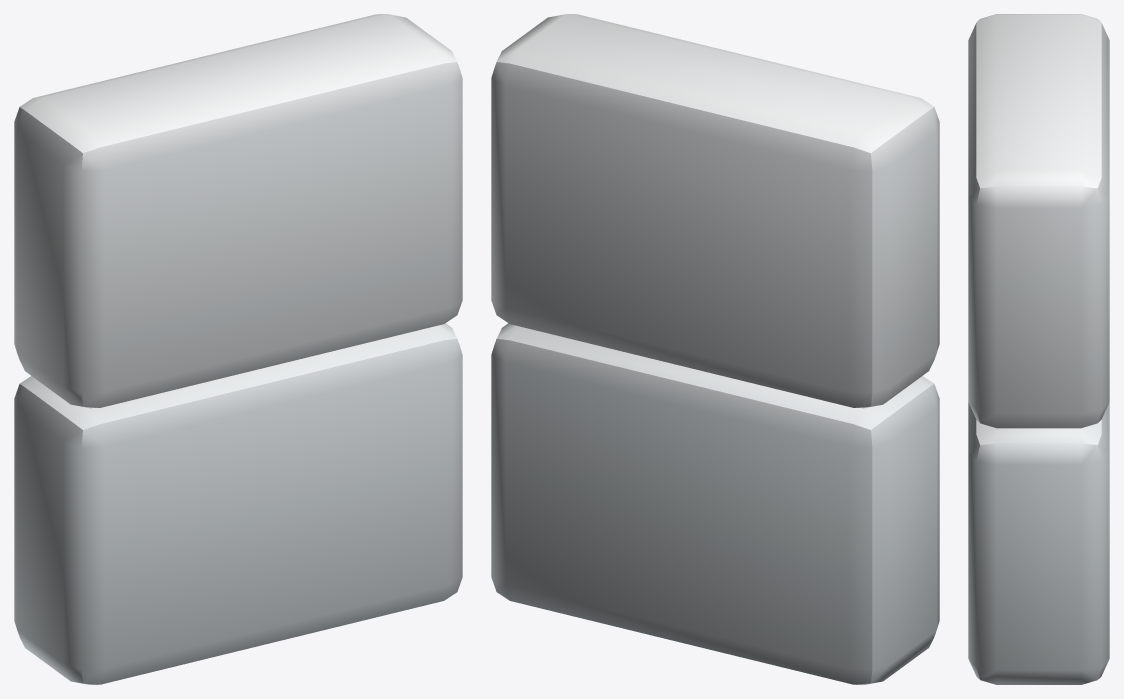
Rendered from barrier_3x1x4.glb.
3 renders of one model, left to right at view 1: azimuth 30°, elevation 25°; view 2: azimuth 150°, elevation 25°; view 3: azimuth 270°, elevation 25°, orthographic. The views are drawn at different scales.
Parts seen in each view (by area): view 1: barrier_3x1x4; view 2: barrier_3x1x4; view 3: barrier_3x1x4.
Part boxes in pixels (box(x1,y1,x2,y2)): barrier_3x1x4: box(14, 14, 462, 684); barrier_3x1x4: box(491, 14, 939, 684); barrier_3x1x4: box(968, 14, 1109, 684).
Bounding box in the file's own units: 3 × 4 × 1.
Materials: 1 (1 with a texture image).
